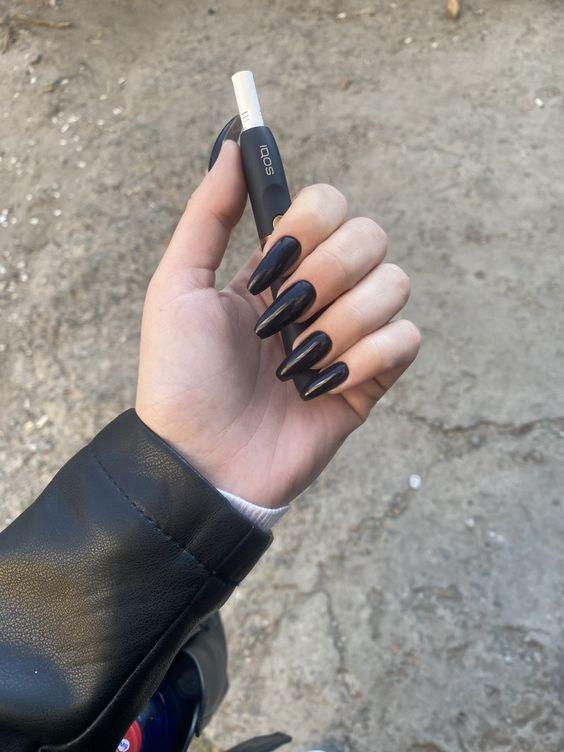iqos: (230, 69, 326, 398)
